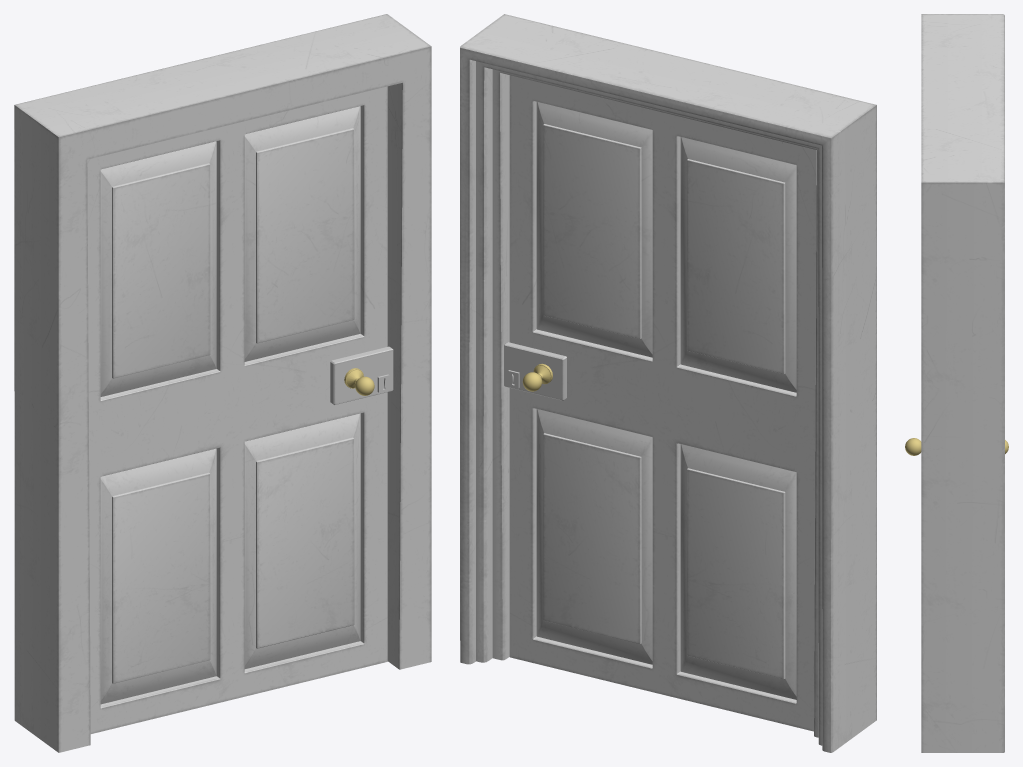
3 views of the same model, side by side, from view 1: azimuth 30°, elevation 25°; view 2: azimuth 150°, elevation 25°; view 3: azimuth 270°, elevation 25° (orthographic). The views are drawn at different scales.
Parts seen in each view (by area): view 1: 门身, 门框, Box2131636326; view 2: 门身, 门框, Box010; view 3: 门框, Sphere013.
Part boxes in pixels (box(x1,y1,x2,y2)): 门身: box(87, 86, 387, 733); 门框: box(14, 14, 431, 752); Box2131636326: box(330, 346, 393, 404); 门身: box(509, 75, 816, 731); 门框: box(460, 14, 876, 752); Box010: box(504, 342, 566, 400); 门框: box(921, 14, 1004, 752); Sphere013: box(905, 438, 921, 455).
Size of the model in its own units: 1339 by 2113 by 349.
